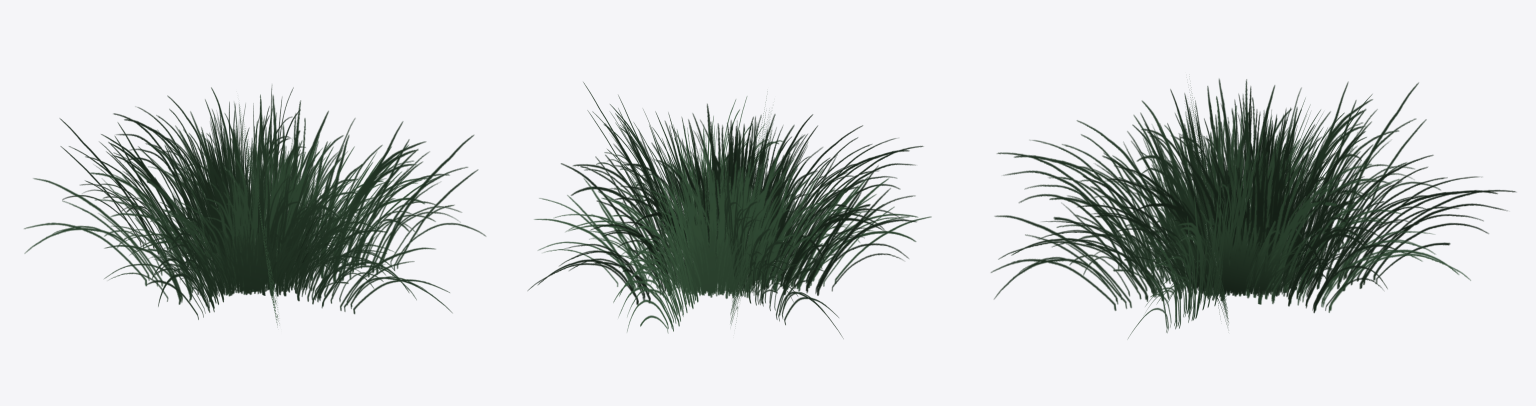
The model's file is grass_large3.glb.
3 renders of one model, left to right at view 1: azimuth 30°, elevation 25°; view 2: azimuth 150°, elevation 25°; view 3: azimuth 270°, elevation 25°, orthographic. The views are drawn at different scales.
Parts seen in each view (by area): view 1: Grass large 3; view 2: Grass large 3; view 3: Grass large 3.
Part boxes in pixels (x1=…): Grass large 3: x1=24, y1=85, x2=485, y2=325; Grass large 3: x1=527, y1=82, x2=931, y2=338; Grass large 3: x1=991, y1=78, x2=1515, y2=338.
Size of the model in its own units: 0.7803 by 0.3954 by 0.9197.
1 material, 1 textured.
